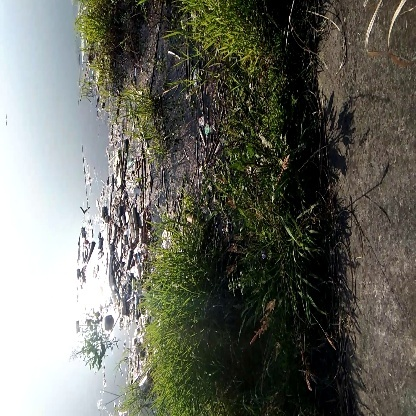grass: (142, 274, 223, 402)
